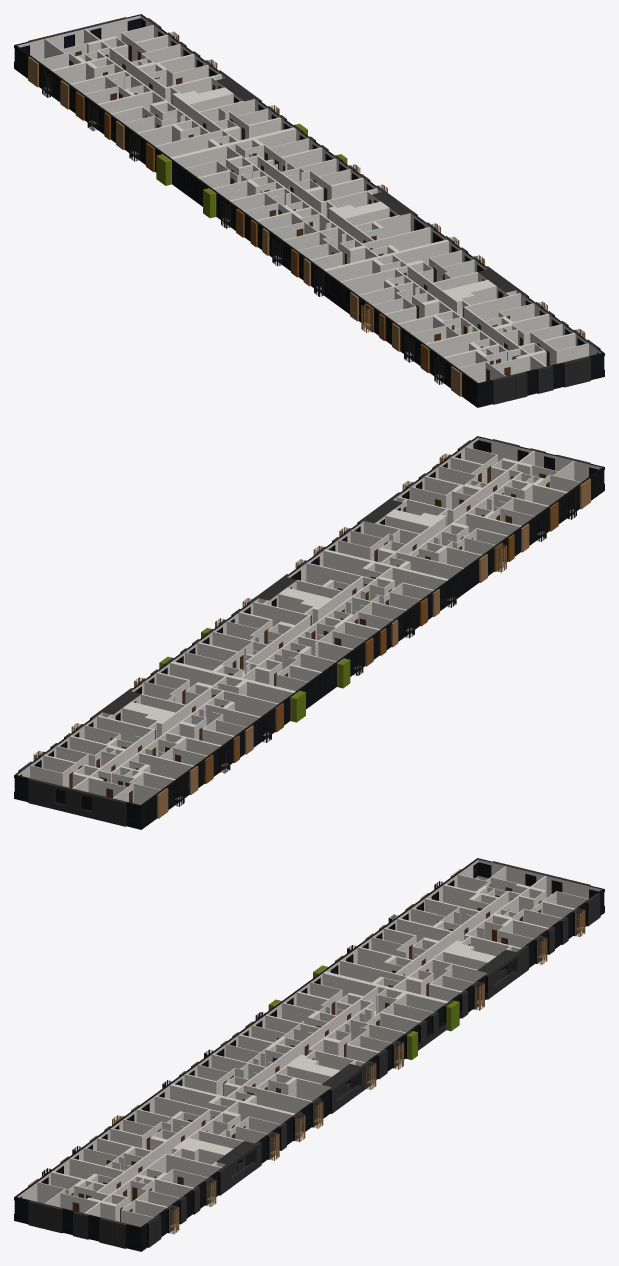
File: floor_3.FBX
3 renders of one model, top to bottom at view 1: azimuth 30°, elevation 25°; view 2: azimuth 150°, elevation 25°; view 3: azimuth 330°, elevation 25°, orthographic.
Visible parts, largest first — view 1: floor_3; view 2: floor_3; view 3: floor_3.
Boxes of the visible parts, x1=… form: floor_3: x1=14, y1=14, x2=604, y2=407; floor_3: x1=14, y1=436, x2=604, y2=829; floor_3: x1=14, y1=858, x2=604, y2=1251.
Bounding box in the file's own units: 18.75 × 3 × 108.
